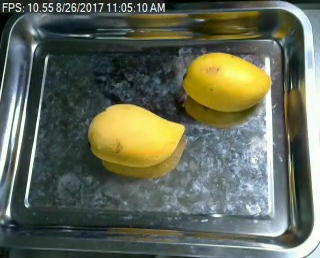Mango: (85, 101, 186, 167), (180, 46, 274, 112)
